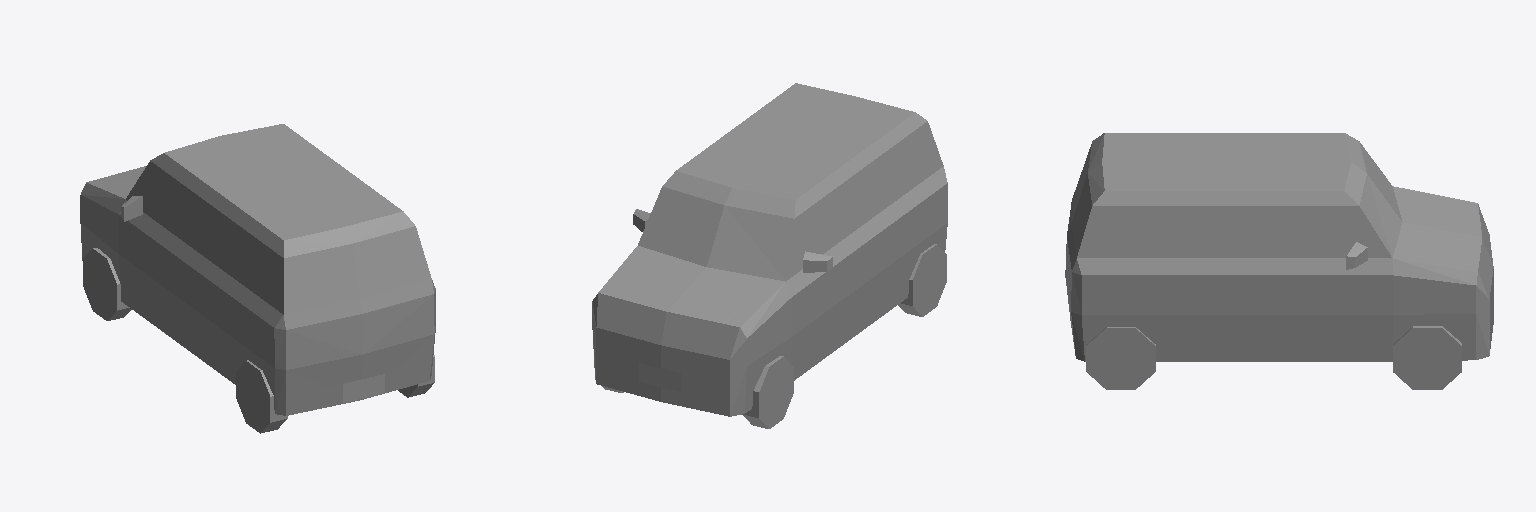
File: ecar001.obj
3 views of the same model, side by side, from view 1: azimuth 30°, elevation 25°; view 2: azimuth 150°, elevation 25°; view 3: azimuth 270°, elevation 25° (orthographic).
Parts seen in each view (by area): view 1: Box001; view 2: Box001; view 3: Box001.
Boxes of the visible parts, box(x1,y1,x2,y2) form: Box001: box(80, 124, 435, 433); Box001: box(592, 83, 947, 428); Box001: box(1065, 133, 1493, 389).
Size of the model in its own units: 1.8 by 1.65 by 3.41.